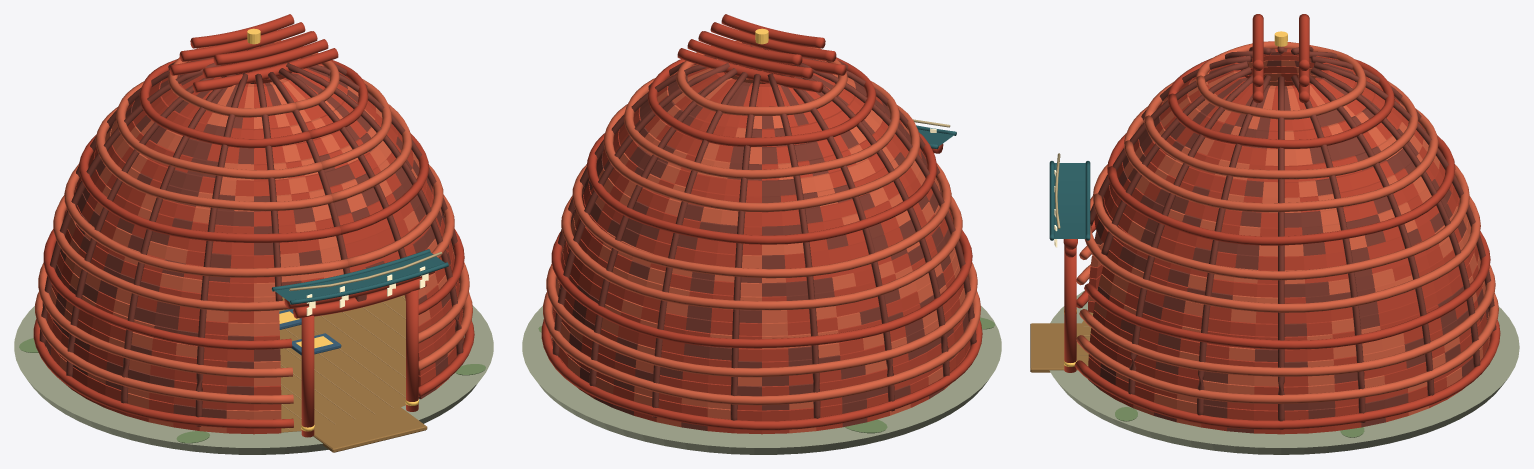
File: torii-nest-v1.glb
The picture shows the model from 3 angles, left to right: view 1: azimuth 30°, elevation 25°; view 2: azimuth 150°, elevation 25°; view 3: azimuth 270°, elevation 25°; orthographic projection.
Visible parts, largest first — view 1: TN_Occluder_red, TN_Occluder_coral, TN_Occluder_old, TN_Details_wood, TN_Details_stone, TN_Occluder_roof, TN_Details_edge, TN_Details_moss, TN_Details_gold, TN_Details_indigo, TN_Occluder_rope, TN_Details_paper; view 2: TN_Occluder_red, TN_Occluder_coral, TN_Occluder_old, TN_Details_stone, TN_Details_moss, TN_Occluder_roof; view 3: TN_Occluder_red, TN_Occluder_coral, TN_Occluder_old, TN_Details_stone, TN_Occluder_roof, TN_Details_wood.
Boxes of the visible parts, bbox=[...] form: TN_Occluder_red: bbox=[33, 14, 474, 437]; TN_Occluder_coral: bbox=[35, 40, 472, 433]; TN_Occluder_old: bbox=[39, 42, 464, 426]; TN_Details_wood: bbox=[279, 295, 427, 452]; TN_Details_stone: bbox=[14, 305, 493, 454]; TN_Occluder_roof: bbox=[271, 249, 448, 304]; TN_Details_edge: bbox=[280, 296, 405, 430]; TN_Details_moss: bbox=[19, 338, 485, 443]; TN_Details_gold: bbox=[247, 28, 418, 431]; TN_Details_indigo: bbox=[279, 309, 341, 355]; TN_Occluder_rope: bbox=[289, 252, 442, 291]; TN_Details_paper: bbox=[306, 266, 428, 315]; TN_Occluder_red: bbox=[541, 14, 982, 434]; TN_Occluder_coral: bbox=[543, 41, 980, 433]; TN_Occluder_old: bbox=[552, 42, 976, 430]; TN_Details_stone: bbox=[522, 305, 1001, 454]; TN_Details_moss: bbox=[538, 317, 994, 433]; TN_Occluder_roof: bbox=[916, 125, 956, 149]; TN_Occluder_red: bbox=[1063, 14, 1500, 434]; TN_Occluder_coral: bbox=[1076, 41, 1498, 427]; TN_Occluder_old: bbox=[1088, 46, 1496, 433]; TN_Details_stone: bbox=[1049, 290, 1519, 454]; TN_Occluder_roof: bbox=[1049, 161, 1090, 240]; TN_Details_wood: bbox=[1030, 312, 1093, 372].
Size of the model in its own units: 11.4 by 8.52 by 11.7.
